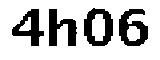0: (81, 6, 116, 50)
4: (7, 6, 46, 50)
6: (118, 7, 151, 55)
h: (47, 6, 80, 51)
